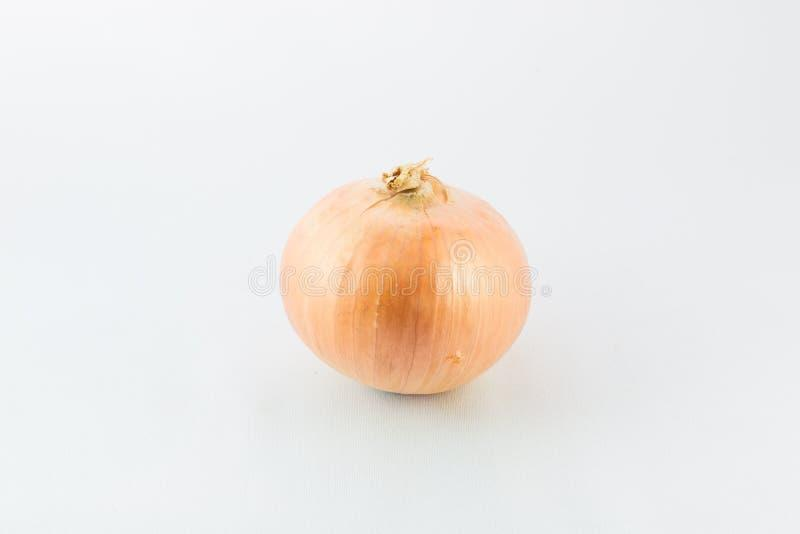Onion: (280, 160, 532, 394)
